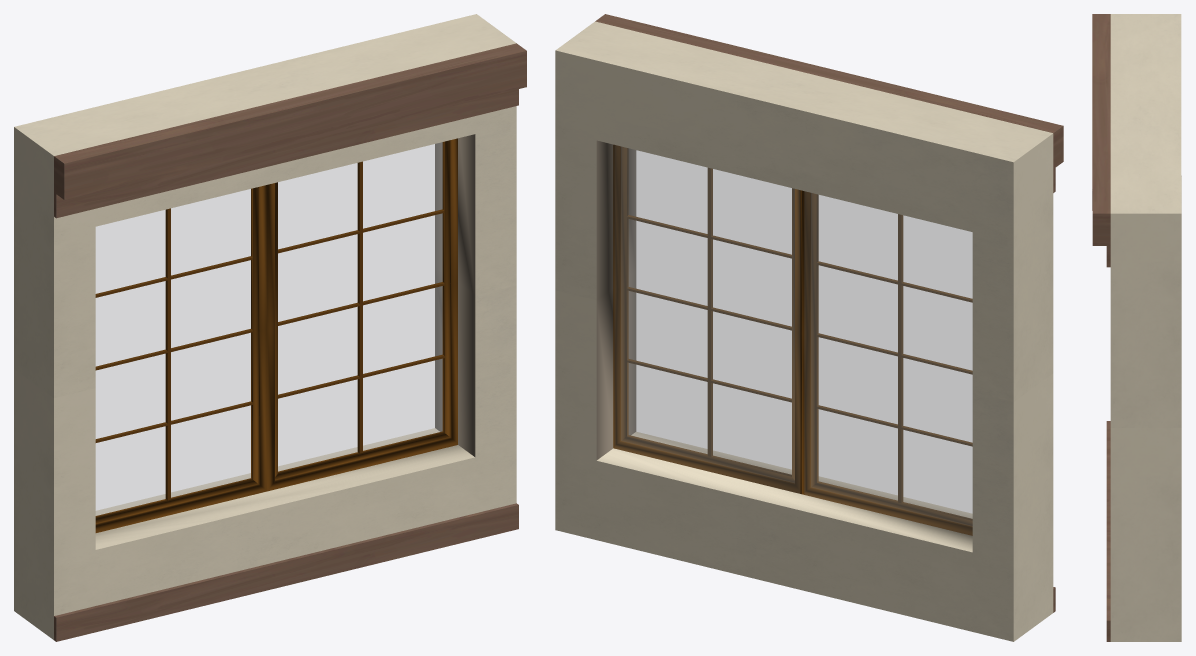
File: DoubleWindowWall.glb
3 views of the same model, side by side, from view 1: azimuth 30°, elevation 25°; view 2: azimuth 150°, elevation 25°; view 3: azimuth 270°, elevation 25° (orthographic). The views are drawn at different scales.
Parts seen in each view (by area): view 1: Double Window Wall; view 2: Double Window Wall; view 3: Double Window Wall.
Boxes of the visible parts, <box> form: Double Window Wall: <box>14,14,526,641</box>; Double Window Wall: <box>555,14,1063,641</box>; Double Window Wall: <box>1092,14,1181,641</box>.
Bounding box in the file's own units: 4 × 4 × 0.7533.
Materials: 3 (1 with a texture image).
